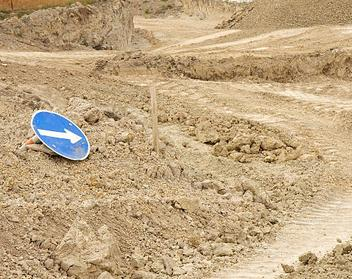obstructed_road_sign: (31, 109, 90, 160)
